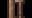workbench: (7, 0, 25, 18)
